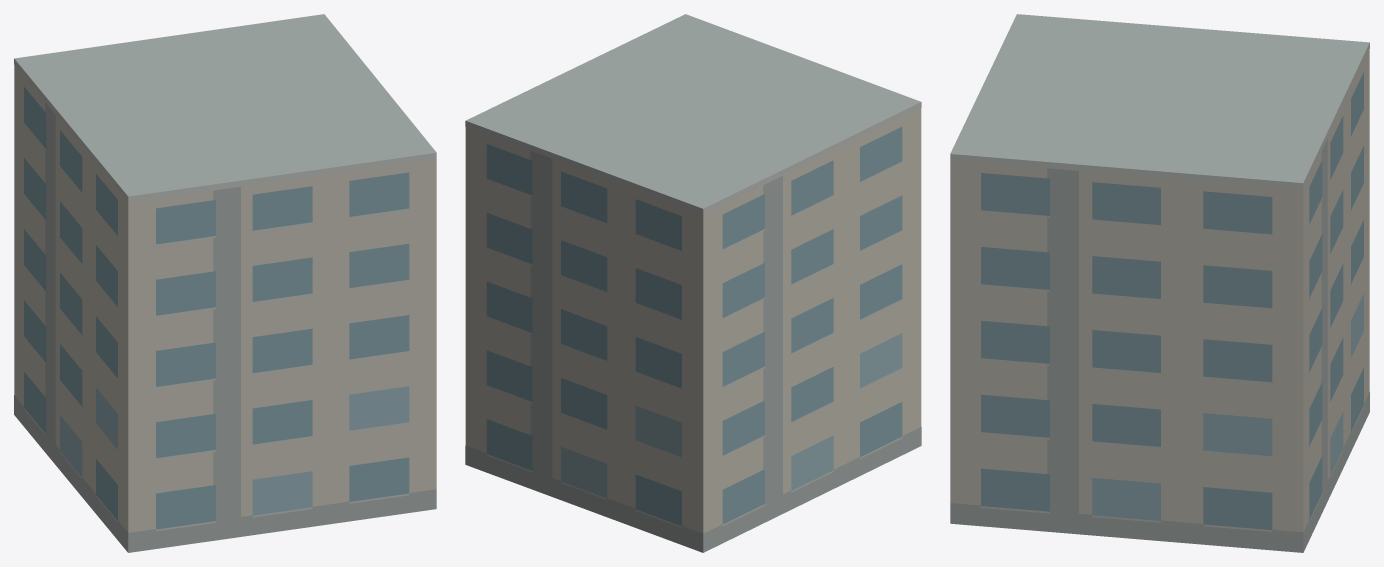
File: survey-upis-32881836.glb
The picture shows the model from 3 angles, left to right: view 1: azimuth 30°, elevation 25°; view 2: azimuth 150°, elevation 25°; view 3: azimuth 270°, elevation 25°; orthographic projection. The views are drawn at different scales.
Parts seen in each view (by area): view 1: survey-upis-32881836.tmp; view 2: survey-upis-32881836.tmp; view 3: survey-upis-32881836.tmp.
Part boxes in pixels (left/top/right/bottom): survey-upis-32881836.tmp: left=14, top=14, right=436, bottom=552; survey-upis-32881836.tmp: left=465, top=14, right=921, bottom=552; survey-upis-32881836.tmp: left=950, top=14, right=1369, bottom=552.
Bounding box in the file's own units: 13.95 × 14.2 × 14.62.
